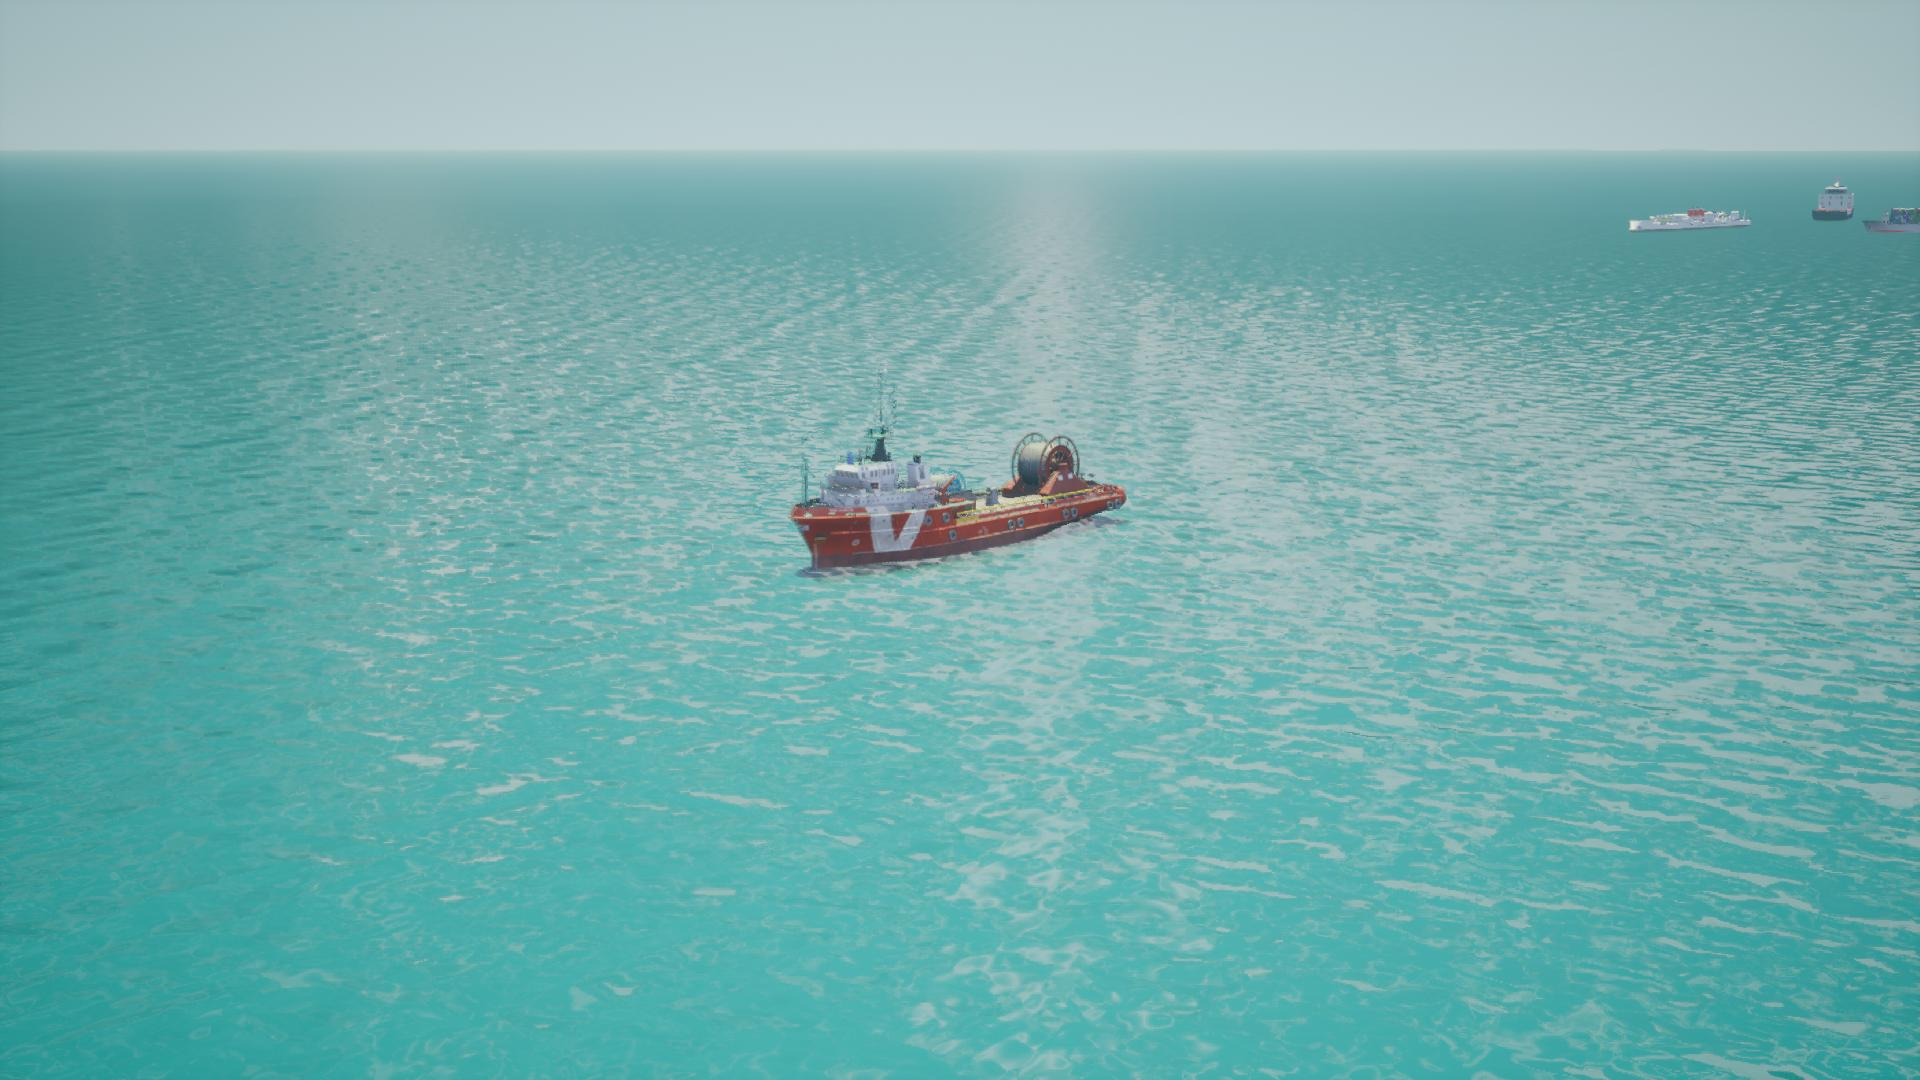Tug Boat: (785, 425, 1125, 575)
